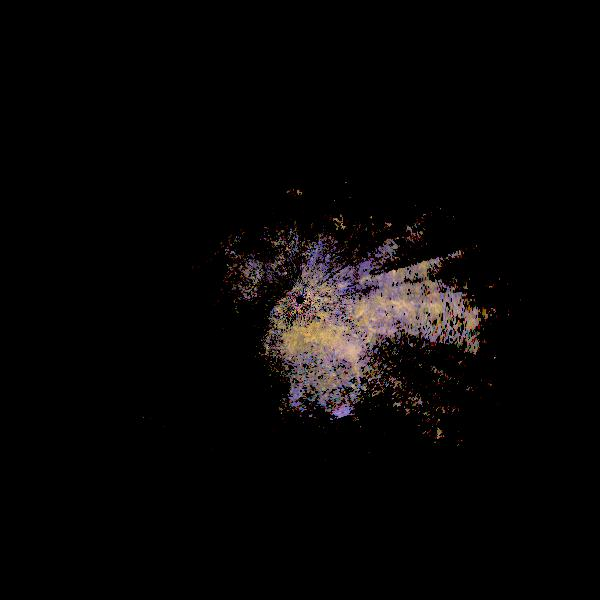roost: (229, 297, 385, 453)
